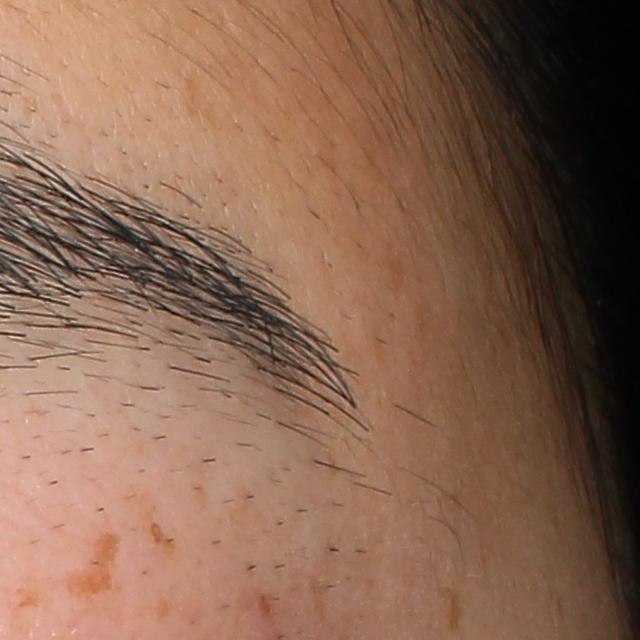melasma: (66, 533, 120, 593)
